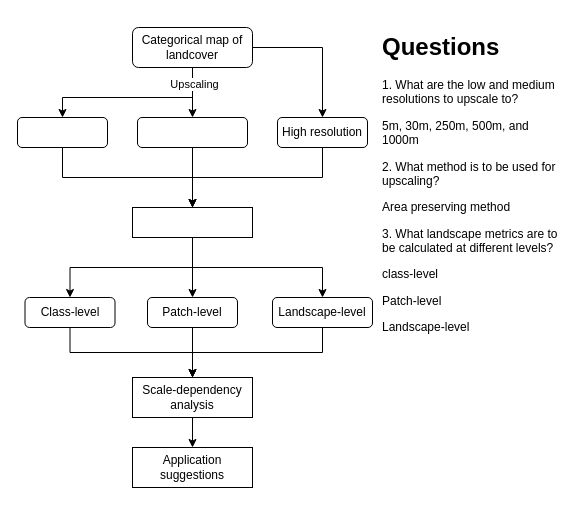
The diagram is 585 pixels wide and 505 high, and some of its shapes have lost their labels. Each missing label, with the box of its shape:
Landscape statistics: (132, 206, 252, 238)
Low resolution: (16, 116, 108, 148)
Medium resolution: (136, 116, 248, 148)
